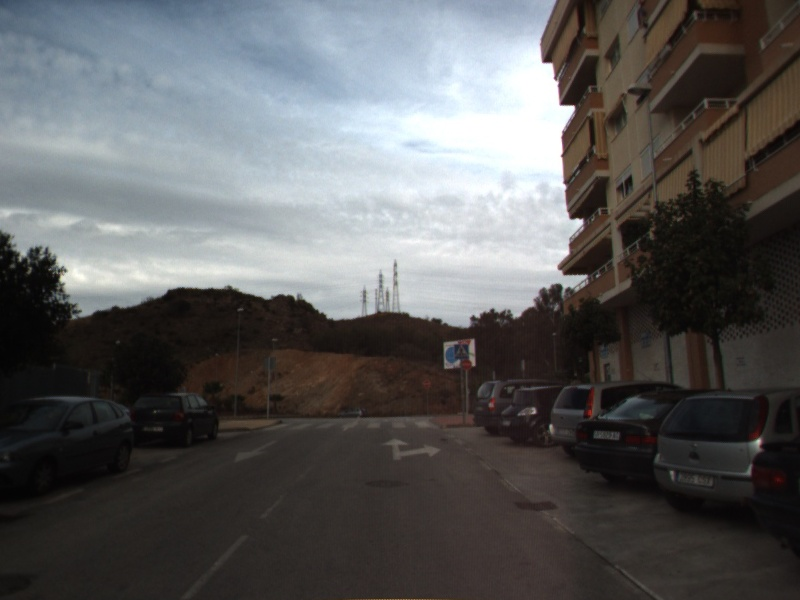STRAIGHT_RIGHT: (379, 435, 443, 462)
